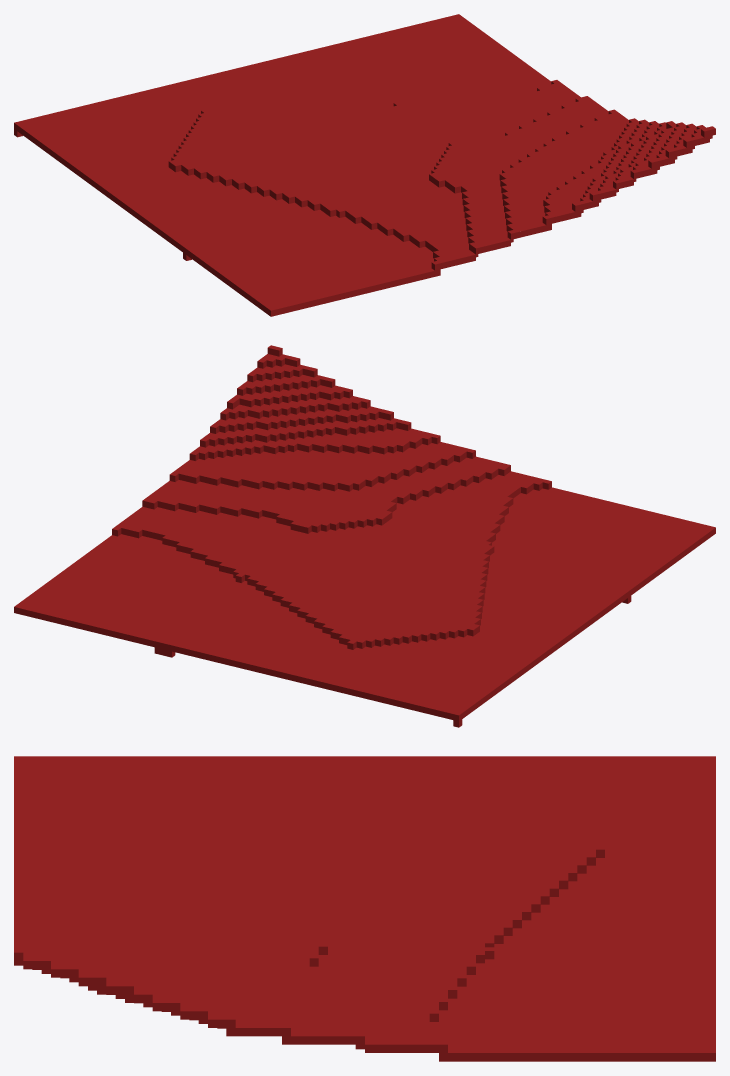
Rendered from nylon.glb.
3 views of the same model, one above another, from view 1: azimuth 30°, elevation 25°; view 2: azimuth 150°, elevation 25°; view 3: azimuth 270°, elevation 25° (orthographic). The views are drawn at different scales.
Parts seen in each view (by area): view 1: nylon:foldedSheet; view 2: nylon:foldedSheet; view 3: nylon:foldedSheet.
Part boxes in pixels (x1,y1,x2,y2): nylon:foldedSheet: (14, 14, 715, 316); nylon:foldedSheet: (14, 345, 715, 727); nylon:foldedSheet: (14, 756, 715, 1061).
Bounding box in the file's own units: 0.152 × 0.028 × 0.152.
